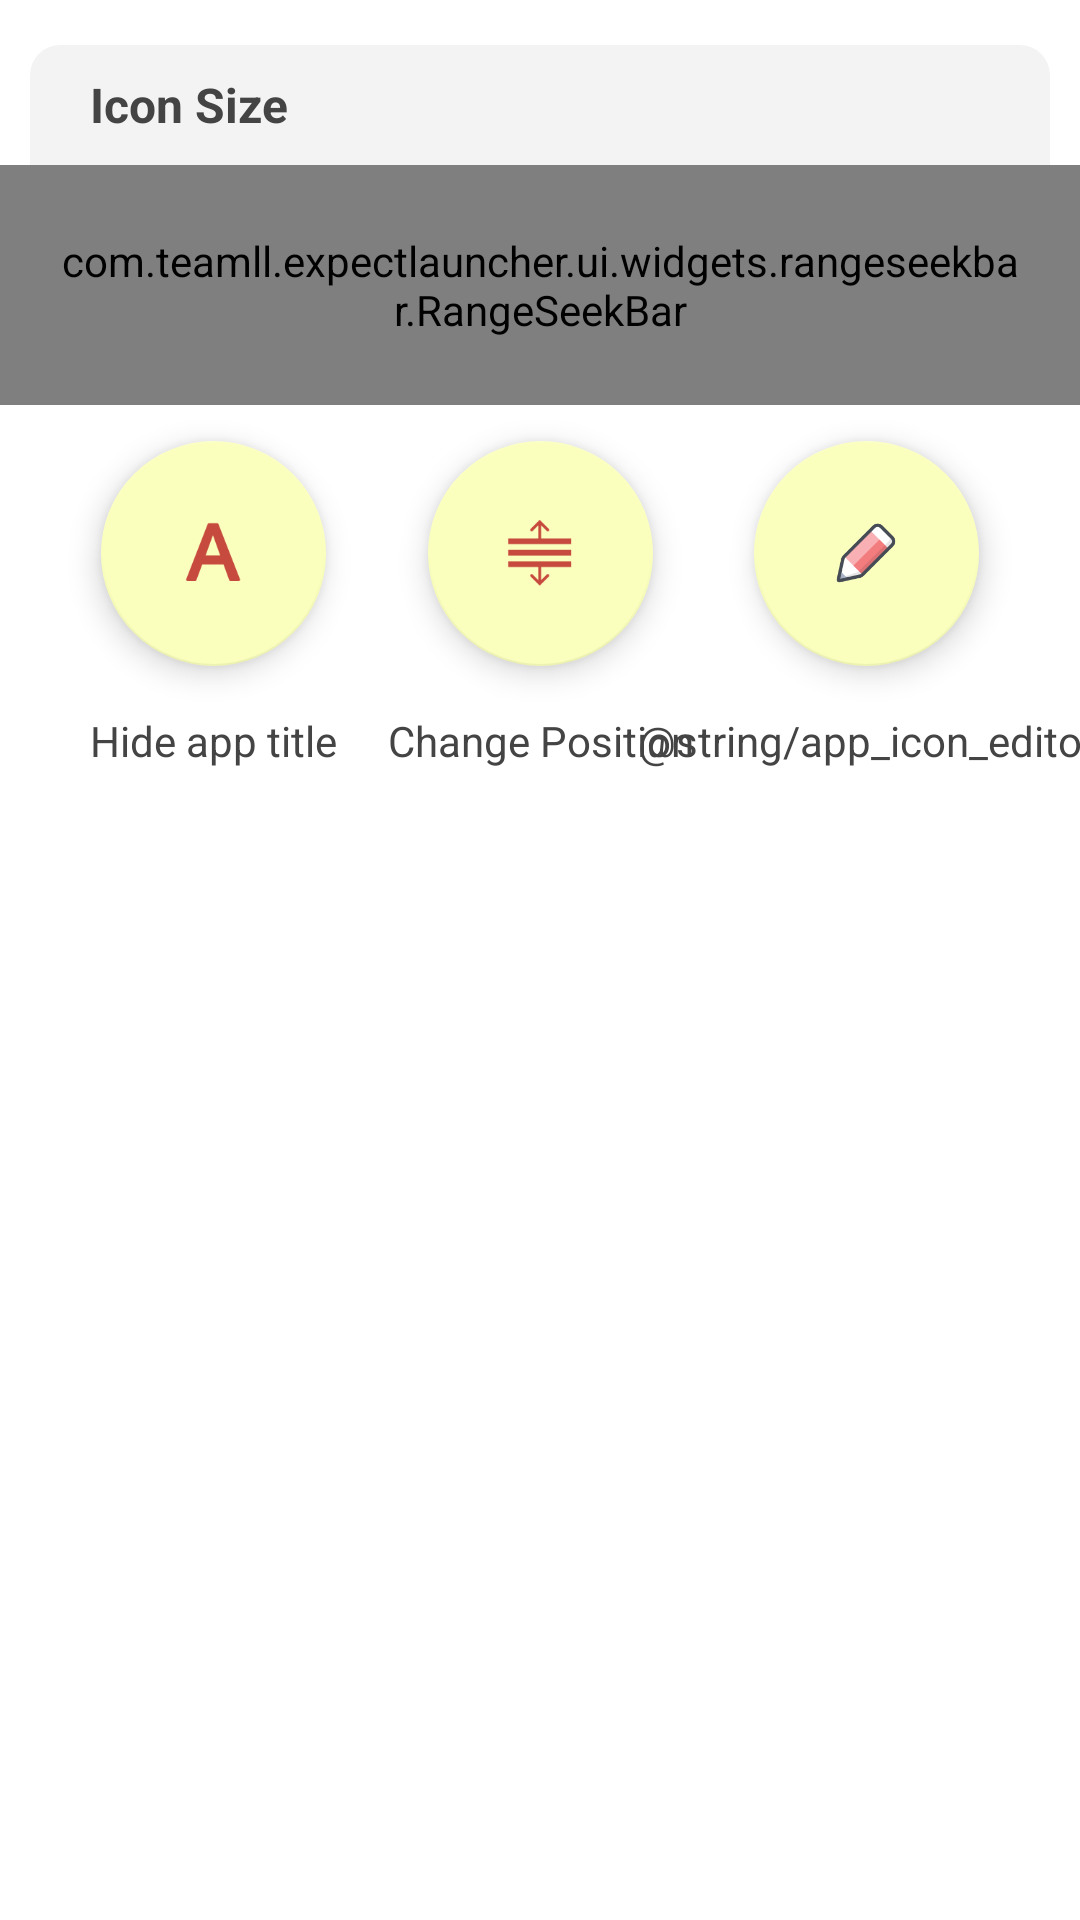

Where to tap for icons on this 1080px x 1920px app screen, as point (x, y):
text: point (213, 553)
